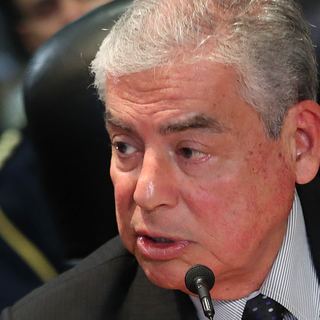eye: (174, 141, 213, 166), (111, 135, 144, 163)
